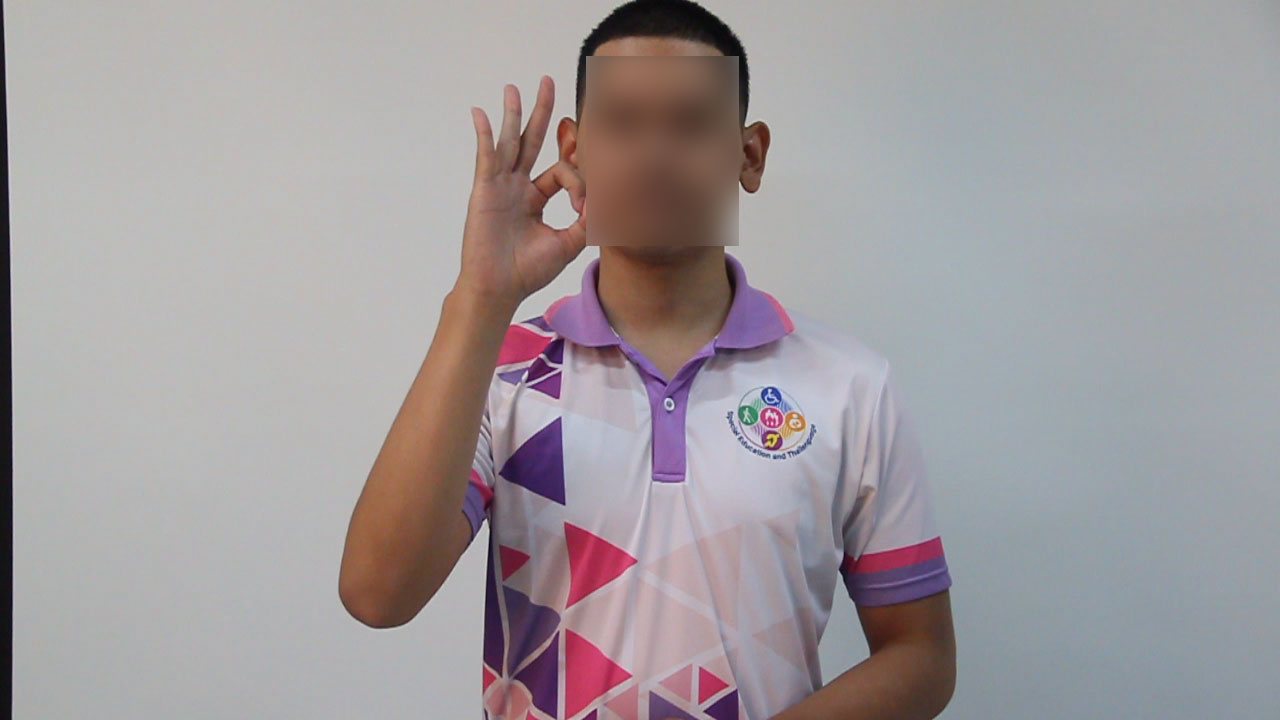for: (429, 60, 615, 317)
